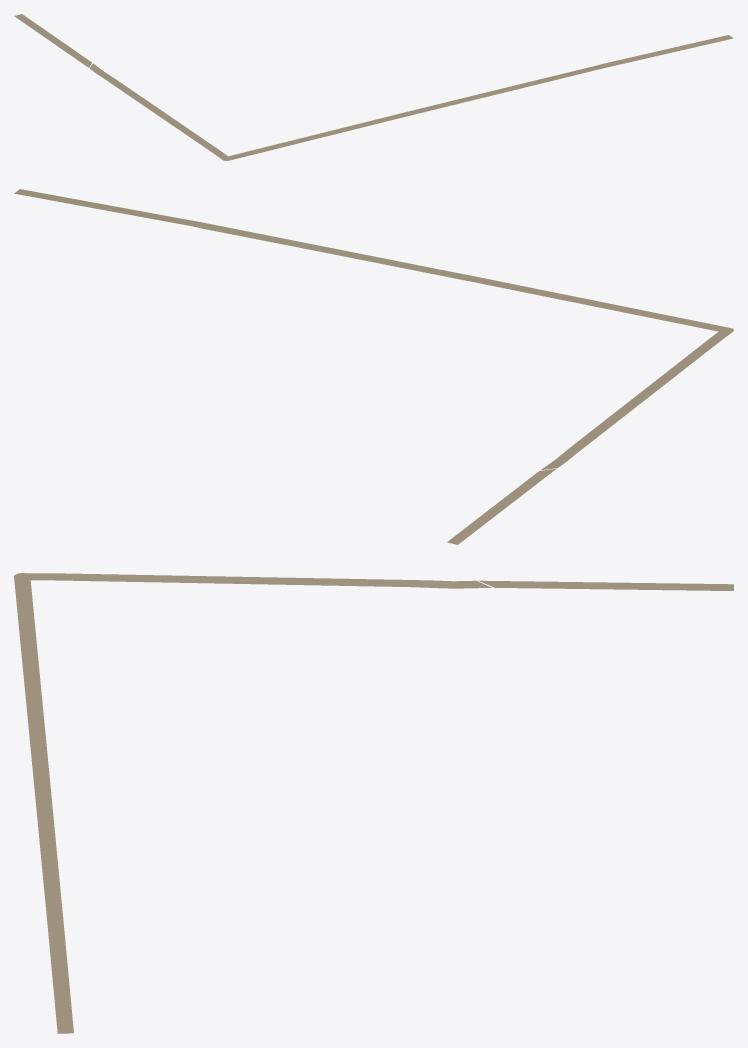
File: farm_14_8_track.glb
3 views of the same model, one above another, from view 1: azimuth 30°, elevation 25°; view 2: azimuth 150°, elevation 25°; view 3: azimuth 270°, elevation 25° (orthographic). The views are drawn at different scales.
Visible parts, largest first — view 1: geometry_0; view 2: geometry_0; view 3: geometry_0.
Boxes of the visible parts, x1,y1,x2,y2 form: geometry_0: [14, 14, 733, 160]; geometry_0: [14, 189, 733, 544]; geometry_0: [14, 573, 733, 1033].
Size of the model in its own units: 208 by 5.07 by 144.
